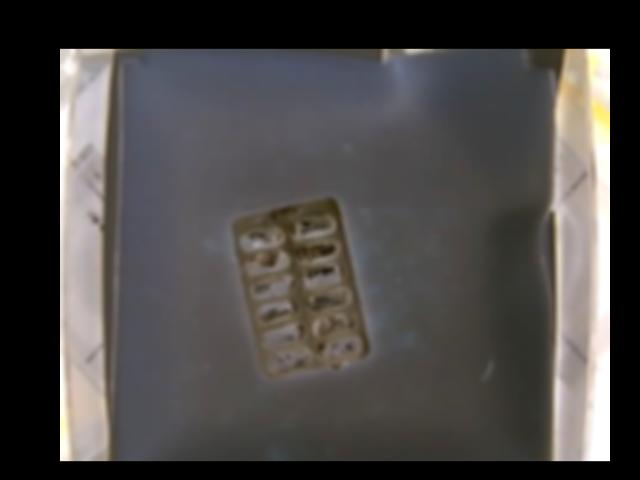Medicine: (226, 197, 371, 377)
